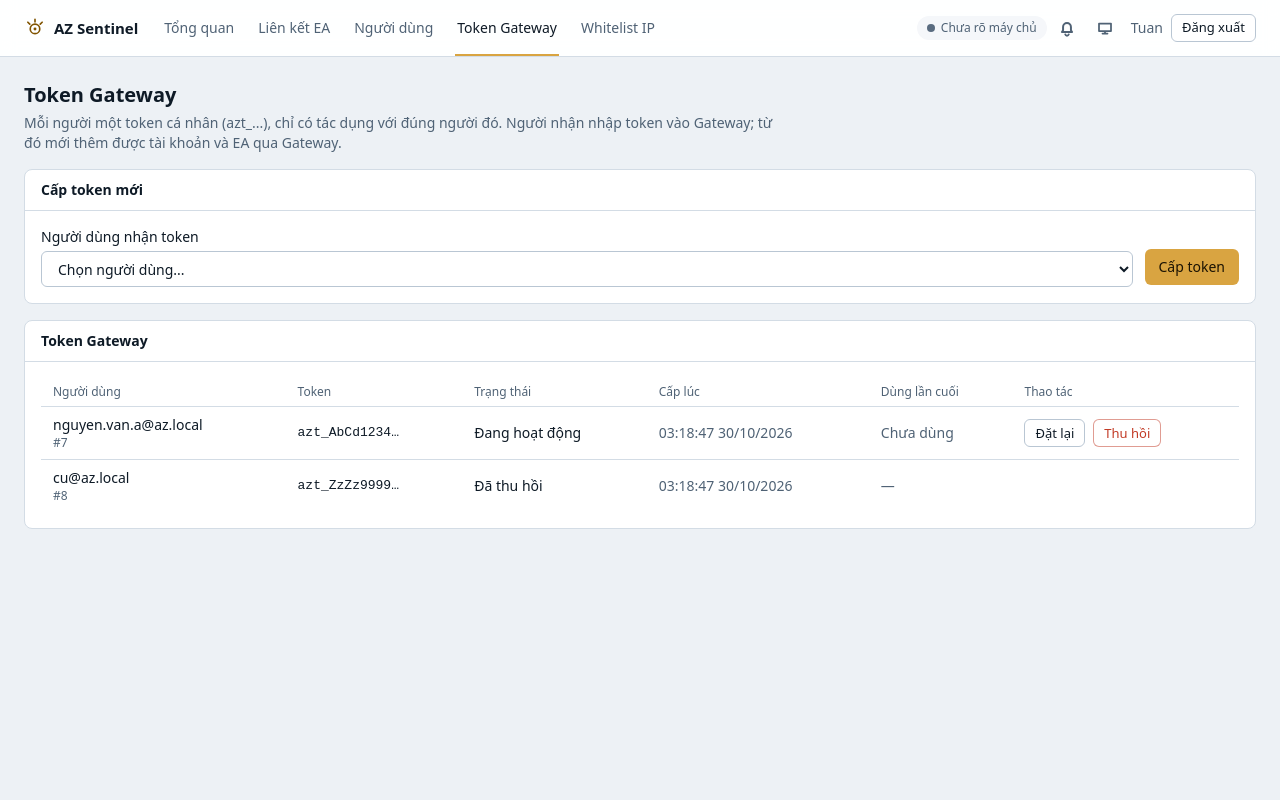
Test: trang Token Gateway (admin) › cấp token lỗi khác 409: báo không cấp được
The image size is (1280, 800).
Select "Dũng (dũng@az.local)" in the dropdown labelled "Người dùng nhận token": (587, 269) [41, 251, 1132, 287]
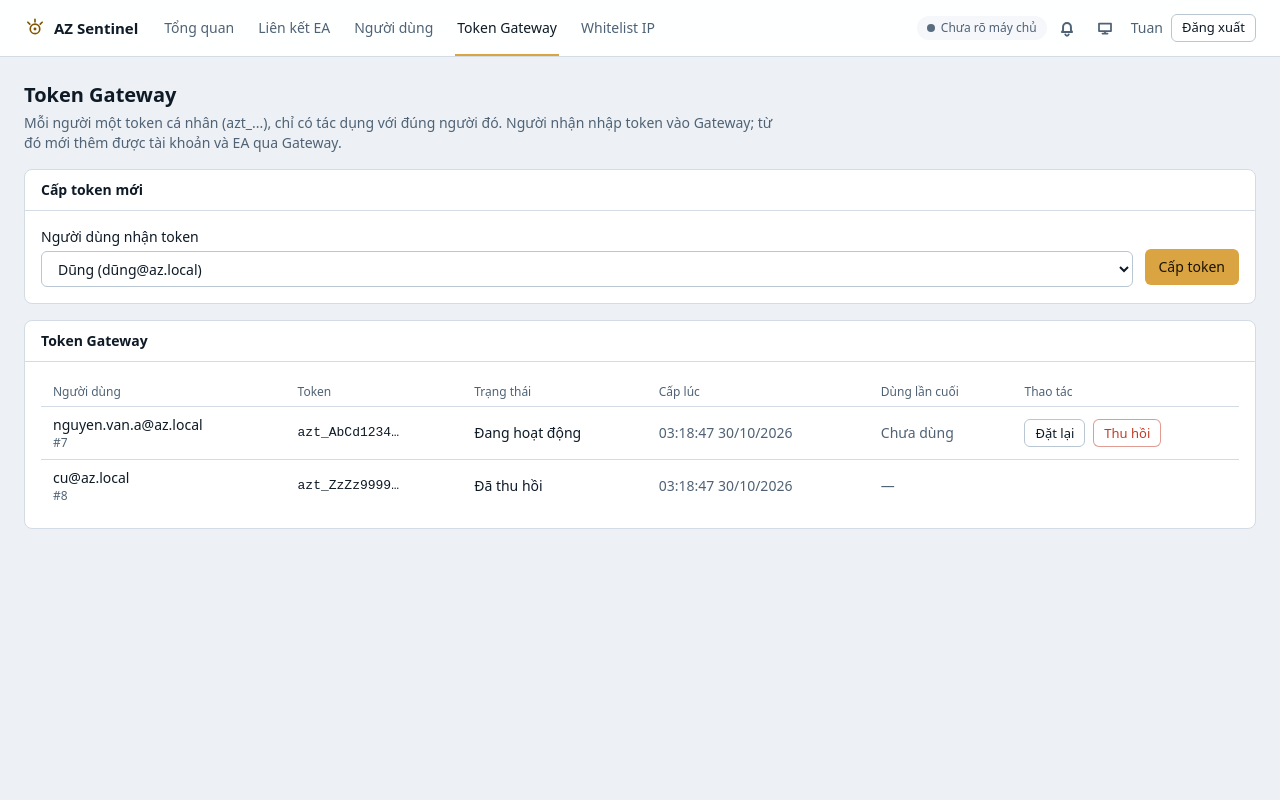
Click the button "Cấp token": (1192, 267) [1144, 249, 1239, 285]
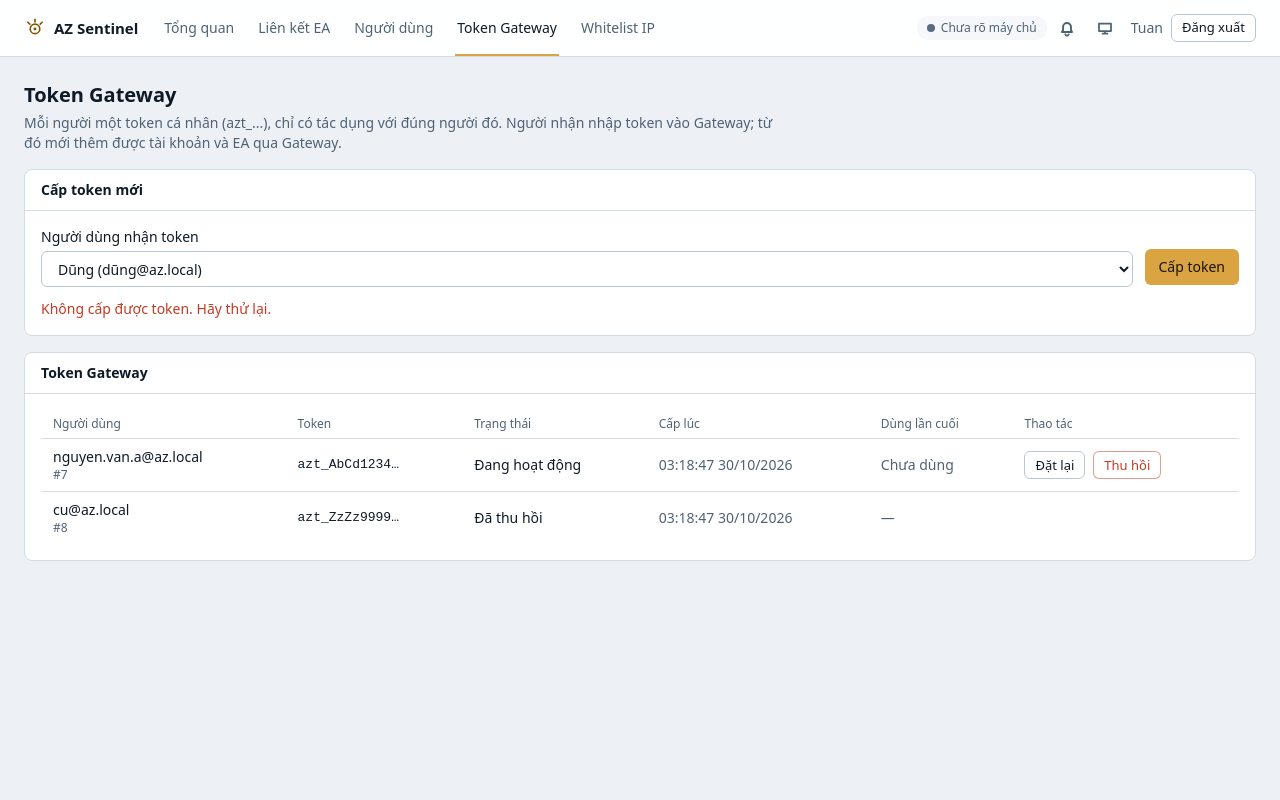
Check: the text "Không cấp được token. Hãy thử lại." is shown, box [41, 299, 271, 318]
